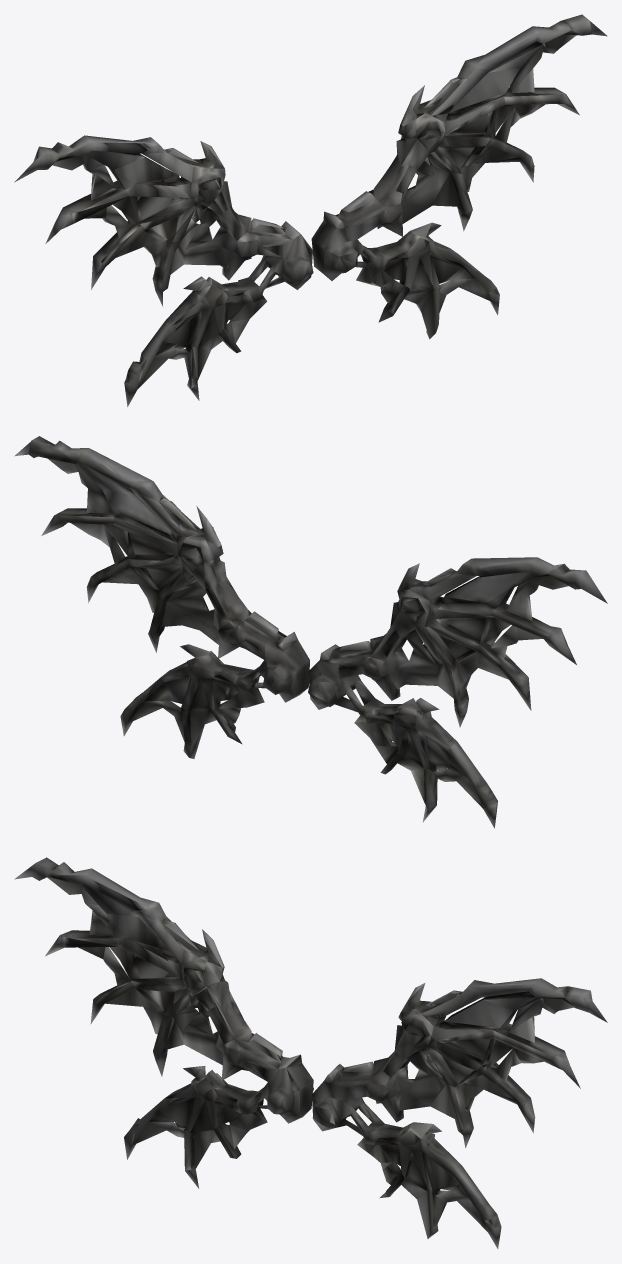
Rendered from 2000钢铁翅膀3.fbx.
3 renders of one model, top to bottom at view 1: azimuth 30°, elevation 25°; view 2: azimuth 150°, elevation 25°; view 3: azimuth 330°, elevation 25°, orthographic.
Visible parts, largest first — view 1: geometry_0.010; view 2: geometry_0.010; view 3: geometry_0.010.
Boxes of the visible parts, left/top/right/bottom form: geometry_0.010: left=14, top=14, right=607, bottom=406; geometry_0.010: left=14, top=436, right=607, bottom=828; geometry_0.010: left=14, top=857, right=607, bottom=1248.
Bounding box in the file's own units: 99.7 × 46.69 × 7.74.
